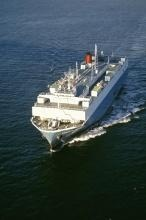Cargoship: (23, 39, 130, 153)
